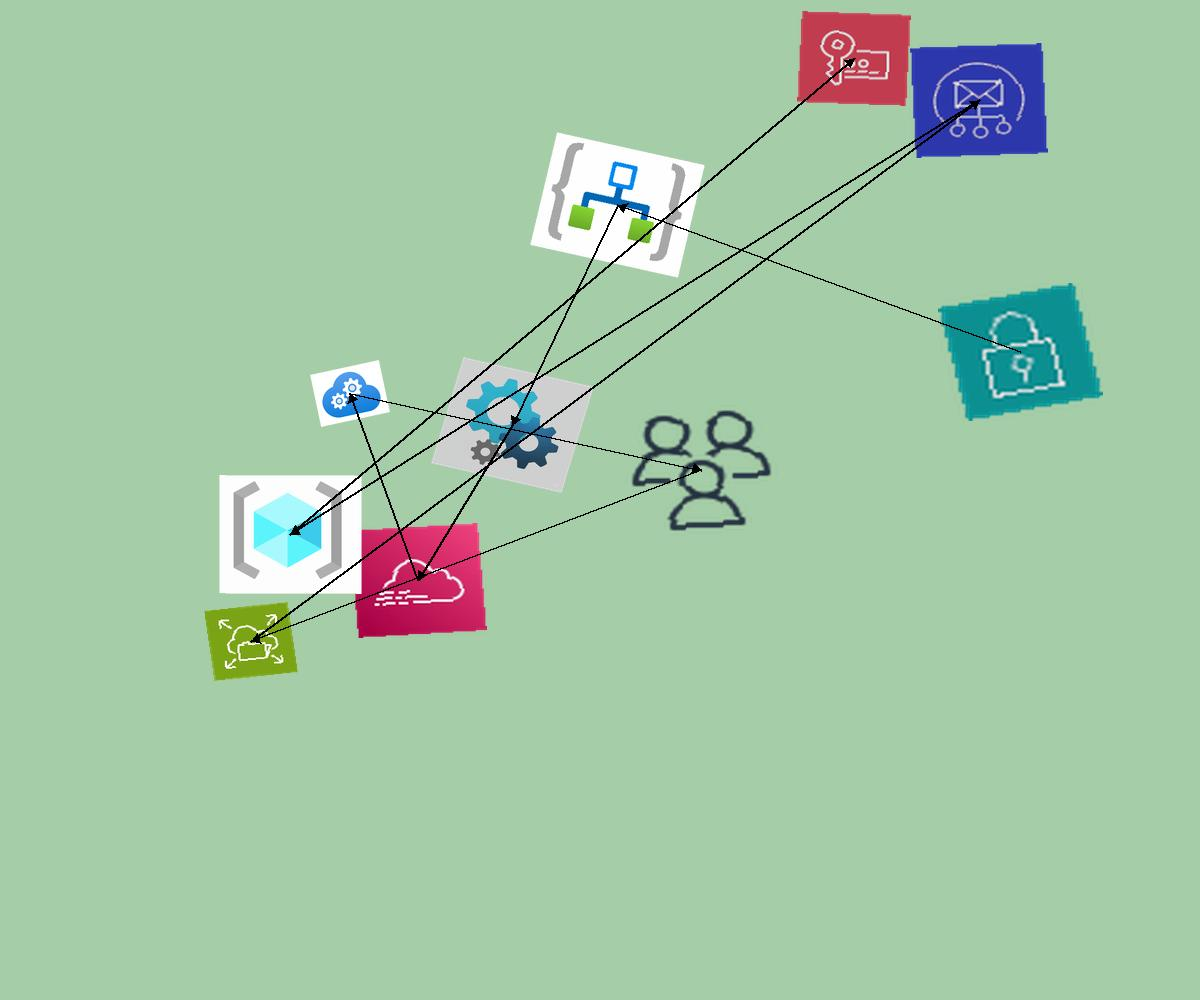AWS-CloudTrail: (349, 523, 487, 638)
AWS-EFS: (204, 602, 298, 681)
AWS-Key-Management-Service: (797, 11, 911, 106)
AWS-Private-subnet: (938, 283, 1103, 421)
AWS-Res_Users: (620, 403, 783, 538)
AWS-Simple-Email-Service: (910, 43, 1048, 158)
Azure_api: (431, 357, 594, 493)
Azure_cloud_services: (310, 360, 390, 427)
Azure_integration-204-Logic-Apps: (530, 132, 705, 278)
Azure_resource_group: (219, 475, 362, 594)
